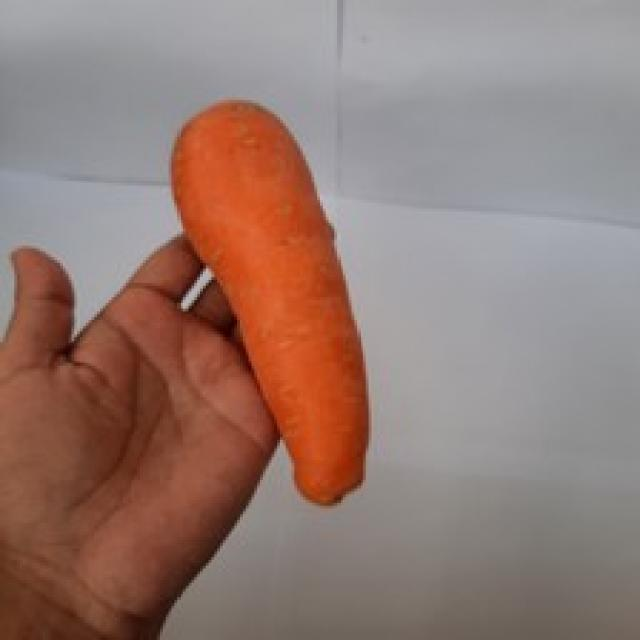carrot: (170, 94, 370, 506)
